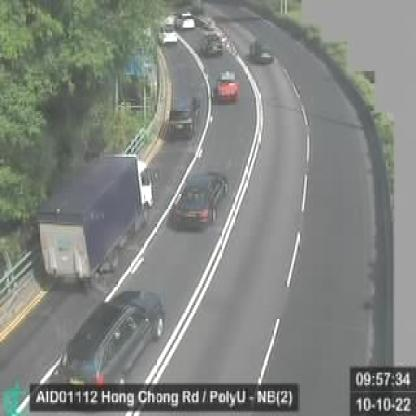Car: (55, 290, 165, 390), (170, 167, 226, 232), (166, 90, 200, 139), (217, 68, 241, 101), (249, 40, 276, 64), (202, 30, 225, 56), (178, 11, 196, 31), (160, 24, 178, 44)
Truck: (36, 152, 152, 288)
